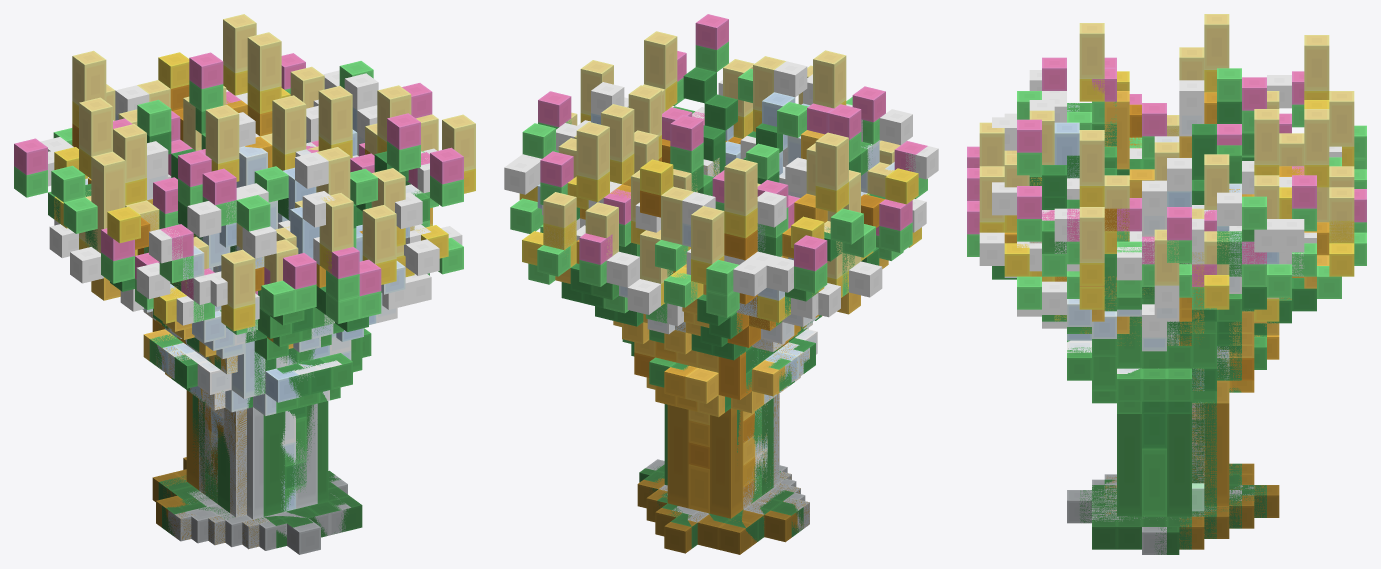
The model's file is MowClumps.fbx.
3 renders of one model, left to right at view 1: azimuth 30°, elevation 25°; view 2: azimuth 150°, elevation 25°; view 3: azimuth 270°, elevation 25°, orthographic. The views are drawn at different scales.
Visible parts, largest first — view 1: Clump_blossom_2, Clump_frost_1, Clump_wheat_1, Clump_wheat_2, Clump_blossom_1, Clump_frost_2, Stubble_blossom; view 2: Clump_wheat_1, Clump_blossom_1, Clump_frost_2, Clump_blossom_2, Clump_wheat_2, Clump_frost_1; view 3: Clump_blossom_2, Clump_wheat_1, Clump_blossom_1, Clump_frost_1, Clump_wheat_2, Clump_frost_2, Stubble_blossom.
Part boxes in pixels (x1,y1,x2,y2): Clump_blossom_2: (53, 52, 463, 537); Clump_frost_1: (49, 73, 462, 554); Clump_wheat_1: (72, 14, 475, 530); Clump_wheat_2: (54, 32, 438, 548); Clump_blossom_1: (14, 83, 432, 548); Clump_frost_2: (40, 70, 439, 548); Stubble_blossom: (179, 470, 340, 527); Clump_wheat_1: (522, 31, 900, 554); Clump_blossom_1: (528, 68, 912, 548); Clump_frost_2: (504, 61, 912, 531); Clump_blossom_2: (510, 14, 927, 485); Clump_wheat_2: (519, 56, 921, 528); Clump_frost_1: (542, 74, 938, 515); Clump_blossom_2: (967, 68, 1366, 549); Clump_wheat_1: (979, 14, 1354, 549); Clump_blossom_1: (967, 57, 1366, 549); Clump_frost_1: (992, 75, 1341, 554); Clump_wheat_2: (979, 71, 1354, 515); Clump_frost_2: (979, 70, 1304, 516); Stubble_blossom: (1080, 479, 1254, 554).
Bounding box in the file's own units: 640 × 800 × 640.
Materials: 1 (1 with a texture image).
